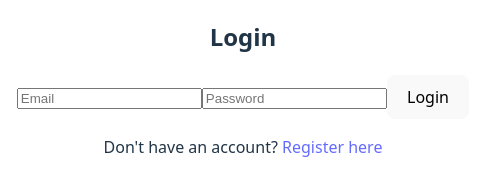
Test: Authentication Tests › should show error for invalid credentials
Type "wrong@example.com" into the field with test id "email-input".
click(110, 99); type("wrong@example.com")  # box [17,88,202,109]
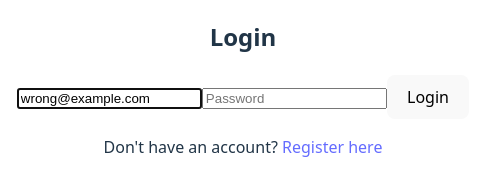
Type "wrongpass" into the password field with test id "password-input".
click(295, 99); type("wrongpass")  # box [202,88,387,109]
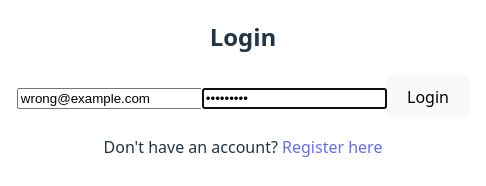
Click the button with test id "login-button".
click(428, 97)  # box [387,75,469,118]
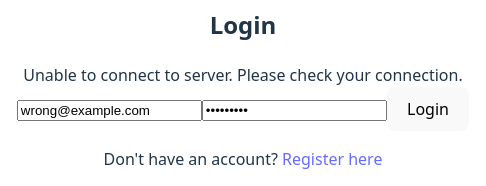
Check: the element with test id "error-message" is not empty
Check: the text "Unable to connect to server. Please check your connection." is shown, box [17,63,469,87]
